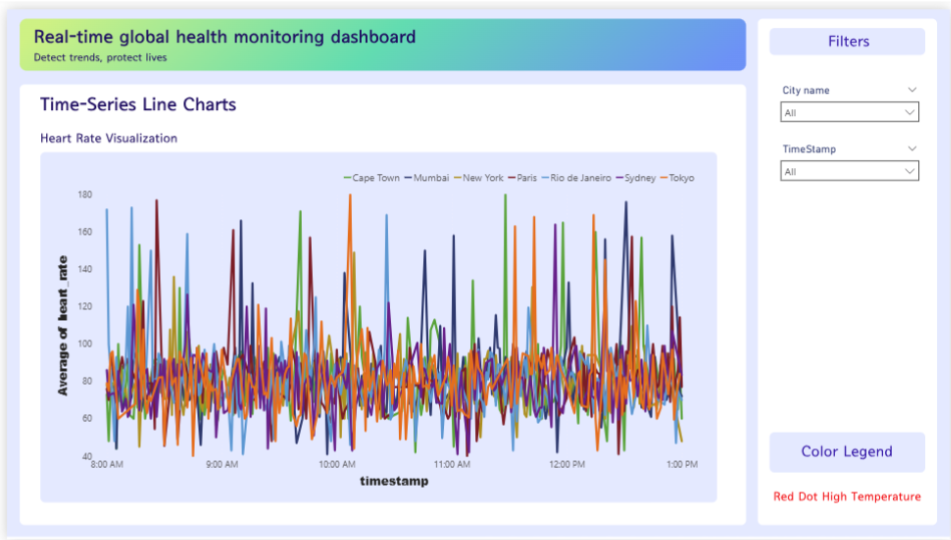

Layout of this report page (visuals, bound fields, positions):
{"tool":"powerbi","page":{"name":"Time-Series Line Charts","canvas":[1280,720],"ordinal":1},"visuals":[{"type":"lineChart","fields":{"Category":["health_data_0c2c5be373be1b16807fb15c3b25cb96.timestamp"],"Y":["health_data_0c2c5be373be1b16807fb15c3b25cb96.heart_rate"],"Series":["health_data_0c2c5be373be1b16807fb15c3b25cb96.city"]},"box":[64,208,880,448],"z":0},{"type":"slicer","fields":{"Values":["health_data_0c2c5be373be1b16807fb15c3b25cb96.city"]},"box":[1040,96,208,64],"z":1000},{"type":"slicer","fields":{"Values":["health_data_0c2c5be373be1b16807fb15c3b25cb96.timestamp"]},"box":[1040,176,208,80],"z":2000}]}

Visuals, with their boxes in screenshot pixels (x1, y1, x2, y2), scaled from the page's 1280x720 canvas onto the 951x540 screenshot:
lineChart - health_data_0c2c5be373be1b16807fb15c3b25cb96.timestamp x health_data_0c2c5be373be1b16807fb15c3b25cb96.heart_rate: box=[48, 156, 701, 492]
slicer - health_data_0c2c5be373be1b16807fb15c3b25cb96.city: box=[773, 72, 927, 120]
slicer - health_data_0c2c5be373be1b16807fb15c3b25cb96.timestamp: box=[773, 132, 927, 192]
